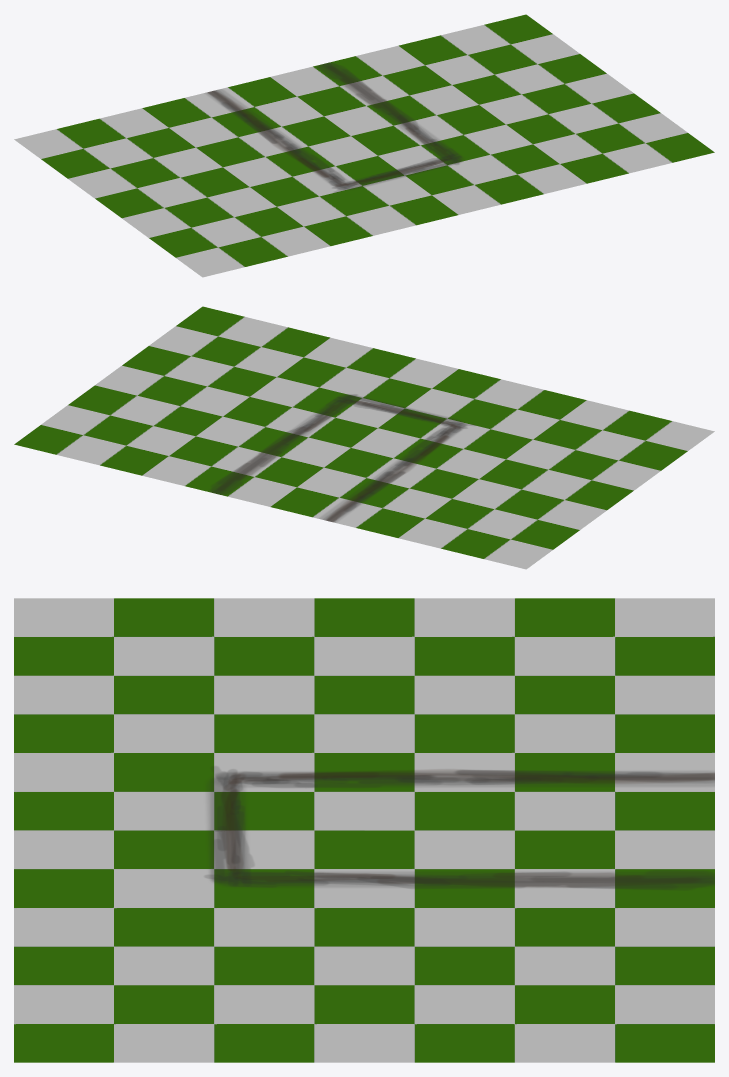
Rendered from FloorT.fbx.
The picture shows the model from 3 angles, top to bottom: view 1: azimuth 30°, elevation 25°; view 2: azimuth 150°, elevation 25°; view 3: azimuth 270°, elevation 25°; orthographic projection. The views are drawn at different scales.
Visible parts, largest first — view 1: Room.001; view 2: Room.001; view 3: Room.001.
Boxes of the visible parts, <box> form: Room.001: <box>14,14,714,277</box>; Room.001: <box>14,306,714,569</box>; Room.001: <box>14,598,714,1062</box>.
Size of the model in its own units: 3367 by 0.0311 by 2147.
